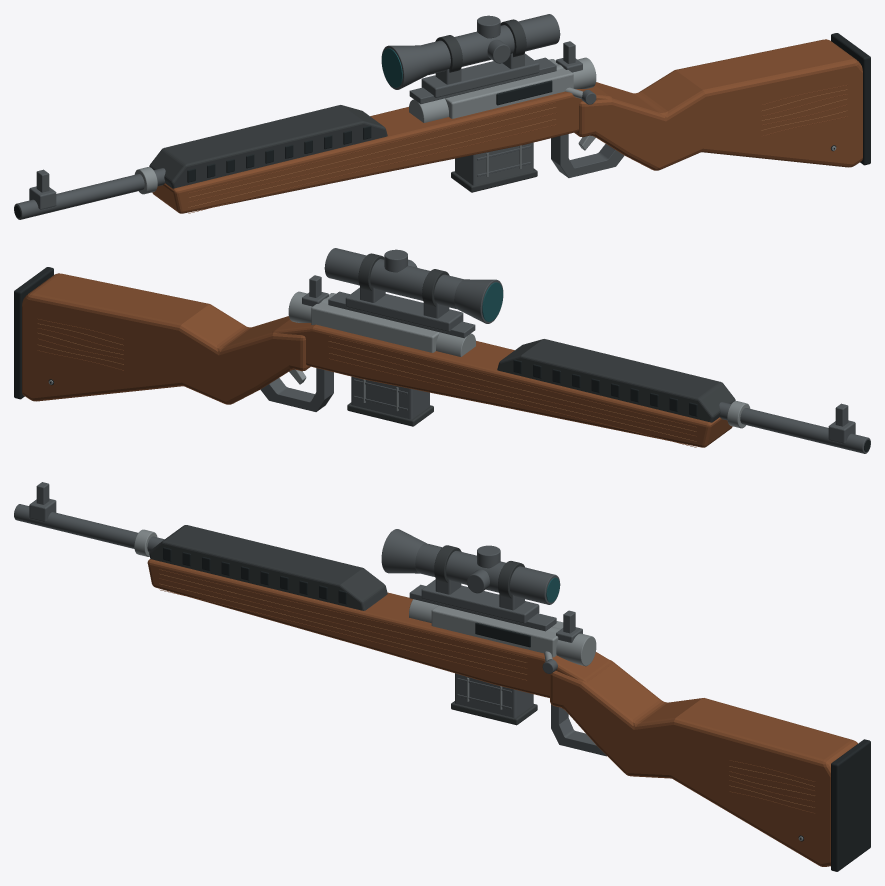
Rendered from mini14.glb.
The picture shows the model from 3 angles, top to bottom: view 1: azimuth 30°, elevation 25°; view 2: azimuth 150°, elevation 25°; view 3: azimuth 330°, elevation 25°; orthographic projection.
Parts seen in each view (by area): view 1: part_stock_surfaces, part_body_surfaces, part_handguard_surfaces, part_optic_surfaces, part_details_surfaces, part_magazine_surfaces, part_barrel_surfaces, part_sights_surfaces, part_grip_surfaces; view 2: part_stock_surfaces, part_body_surfaces, part_handguard_surfaces, part_optic_surfaces, part_details_surfaces, part_magazine_surfaces, part_barrel_surfaces, part_sights_surfaces, part_grip_surfaces; view 3: part_stock_surfaces, part_body_surfaces, part_handguard_surfaces, part_optic_surfaces, part_details_surfaces, part_magazine_surfaces, part_barrel_surfaces, part_sights_surfaces, part_grip_surfaces.
Boxes of the visible parts, box(x1,y1,x2,y2) form: part_stock_surfaces: box(574, 33, 870, 170); part_body_surfaces: box(152, 85, 612, 213); part_handguard_surfaces: box(149, 105, 387, 188); part_optic_surfaces: box(381, 14, 560, 97); part_details_surfaces: box(409, 57, 596, 122); part_magazine_surfaces: box(451, 142, 537, 192); part_barrel_surfaces: box(14, 167, 165, 219); part_sights_surfaces: box(29, 41, 582, 209); part_grip_surfaces: box(551, 134, 624, 177); part_stock_surfaces: box(14, 267, 310, 404); part_body_surfaces: box(272, 319, 732, 447); part_handguard_surfaces: box(497, 339, 735, 422); part_optic_surfaces: box(324, 248, 503, 331); part_details_surfaces: box(288, 291, 475, 356); part_magazine_surfaces: box(347, 376, 433, 426); part_barrel_surfaces: box(719, 401, 870, 453); part_sights_surfaces: box(302, 275, 855, 443); part_grip_surfaces: box(260, 368, 333, 411); part_stock_surfaces: box(550, 660, 870, 871); part_body_surfaces: box(147, 559, 612, 697); part_handguard_surfaces: box(149, 525, 387, 610); part_optic_surfaces: box(381, 529, 560, 623); part_details_surfaces: box(409, 599, 596, 673); part_magazine_surfaces: box(451, 673, 537, 725); part_barrel_surfaces: box(14, 504, 164, 556); part_sights_surfaces: box(29, 482, 582, 642); part_grip_surfaces: box(551, 704, 606, 756).
Bounding box in the file's own units: 321 × 80.94 × 25.61.
